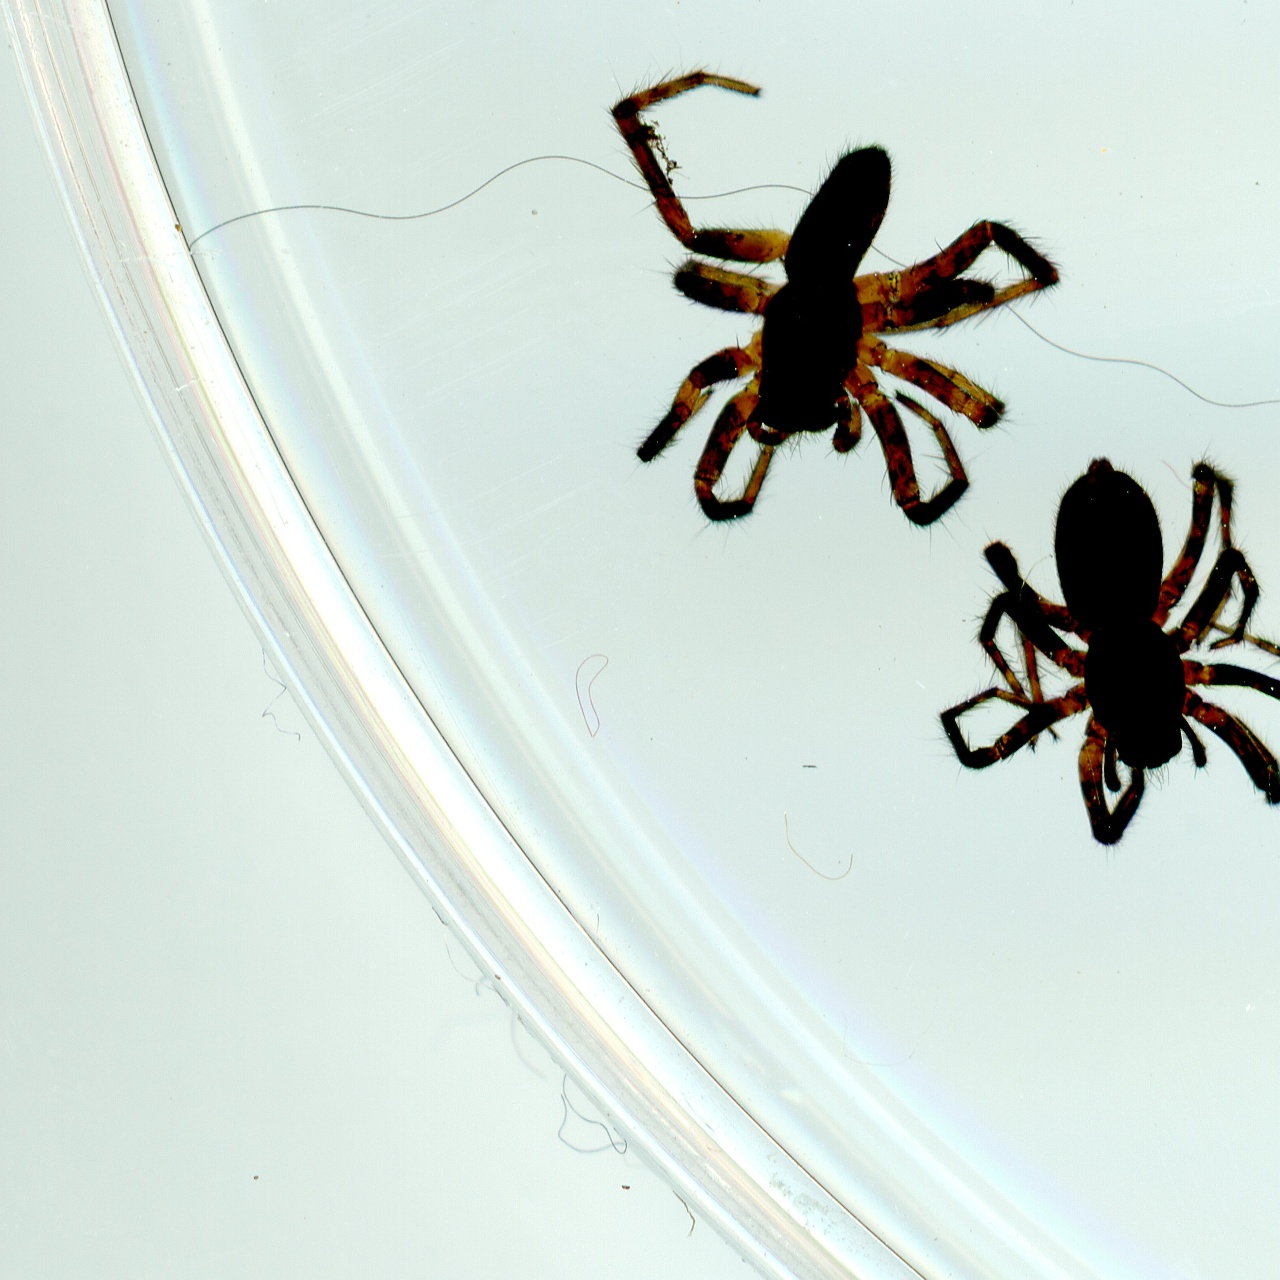arthropod: (604, 55, 1055, 522), (938, 455, 1280, 844)
